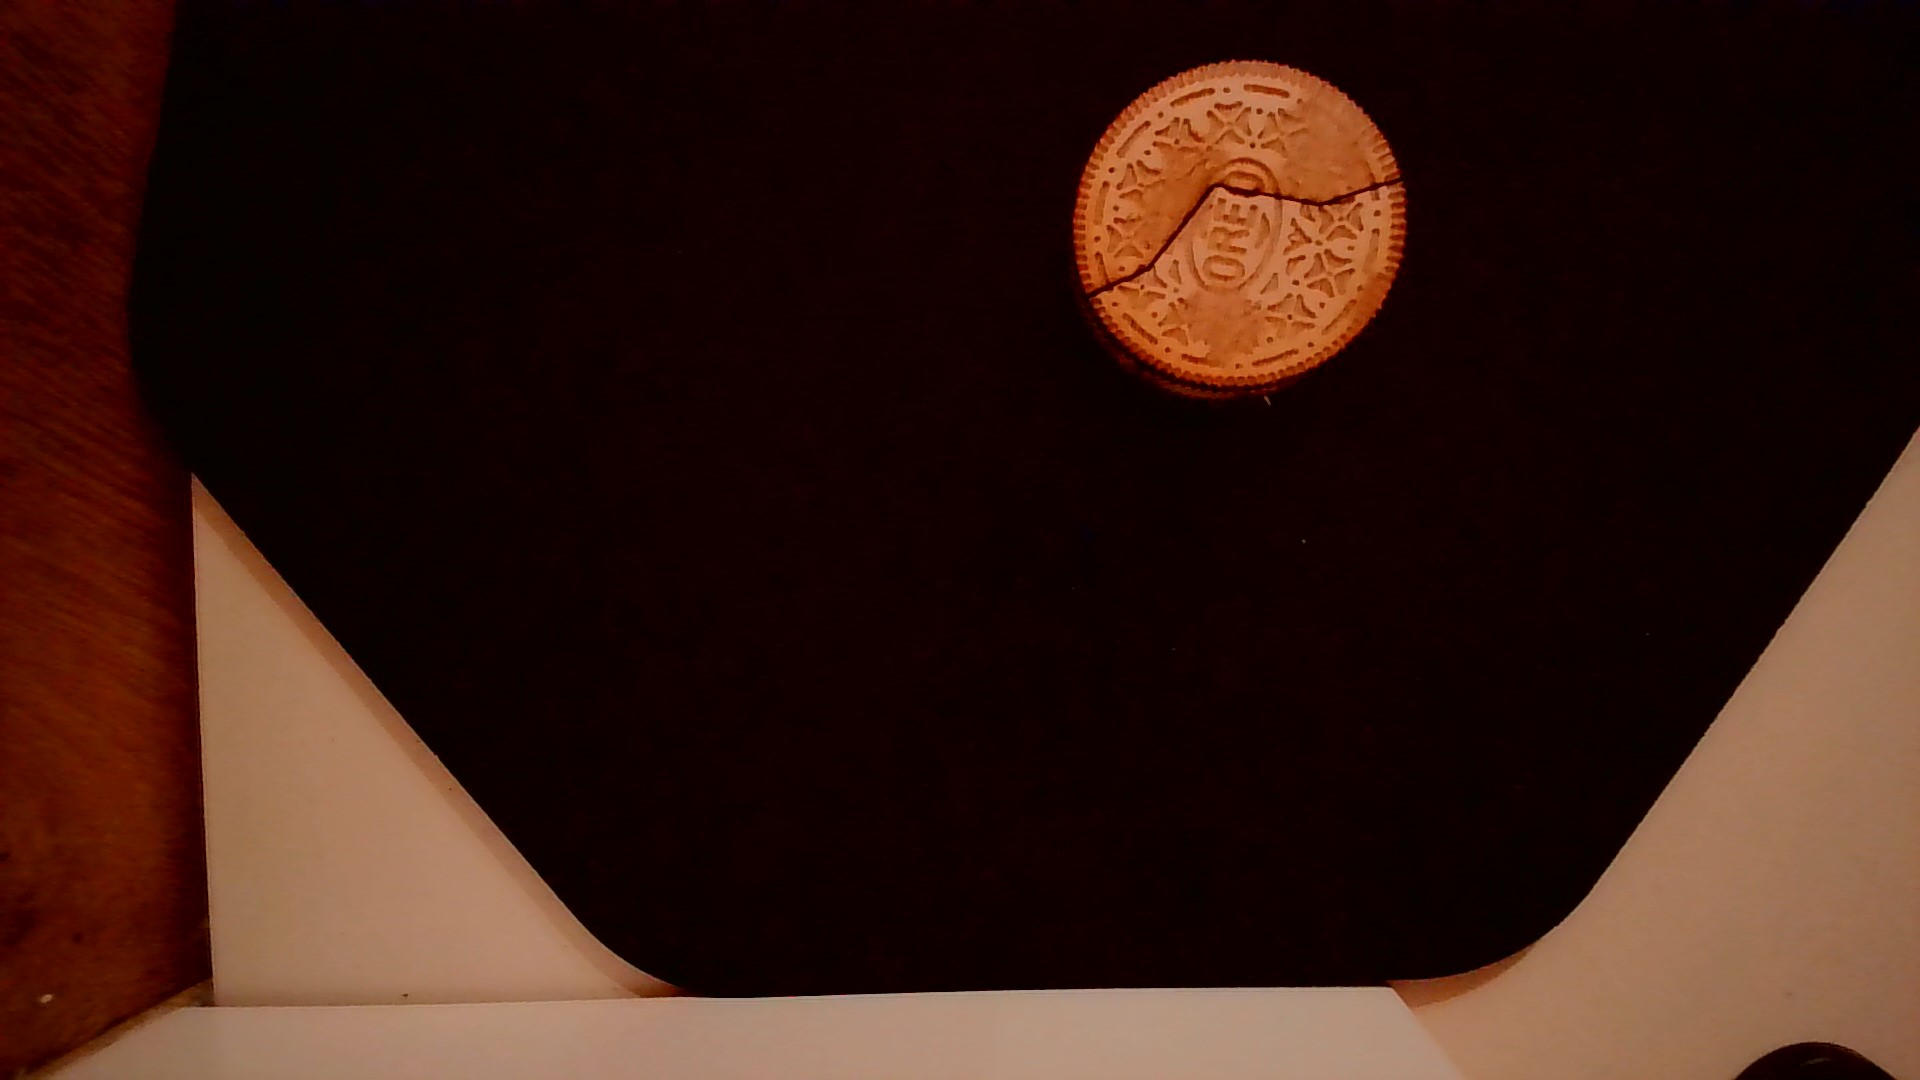Effacé: (1255, 63, 1375, 190), (1174, 291, 1312, 360), (1134, 165, 1174, 235)
Fissure: (1081, 156, 1404, 315)
Oréo: (1062, 45, 1420, 413)
